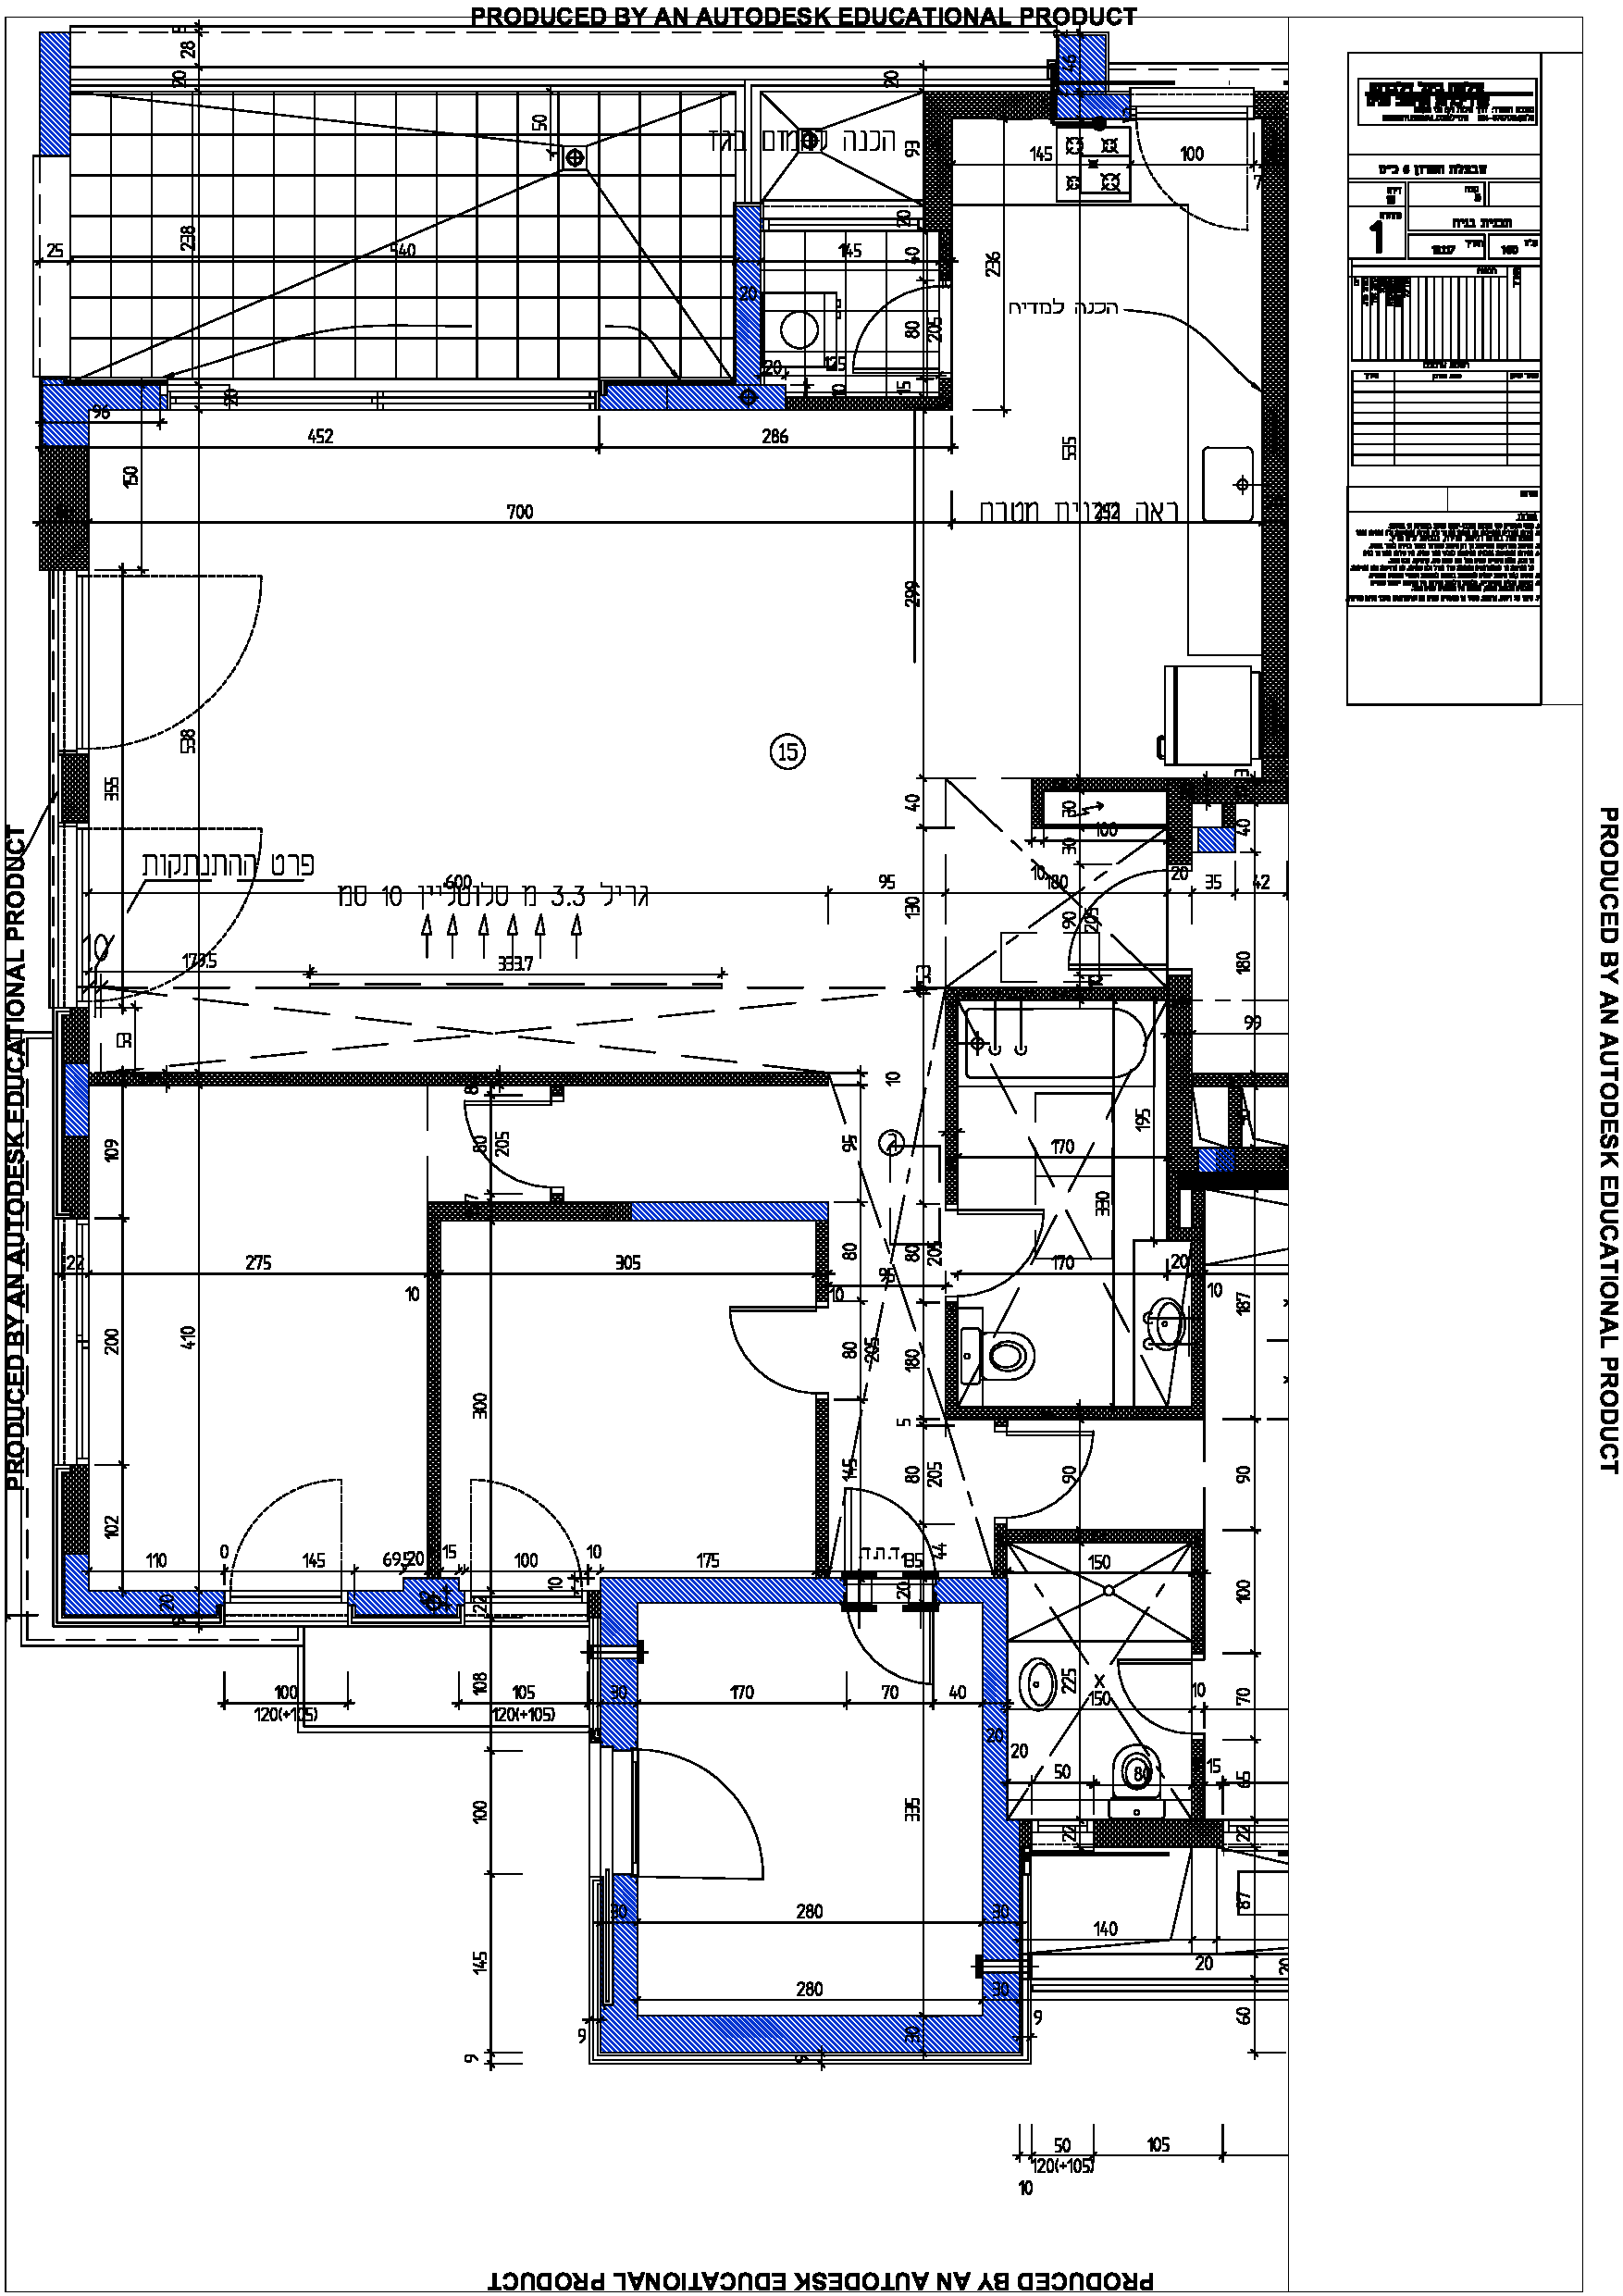door: (639, 1744, 775, 1897), (234, 1467, 355, 1570), (718, 1289, 813, 1402)
